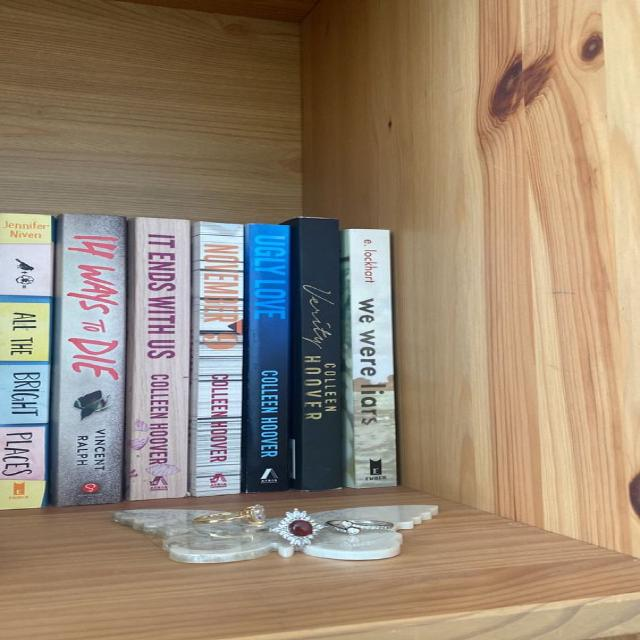book: (51, 214, 126, 506), (126, 217, 190, 500), (283, 218, 343, 491), (0, 214, 52, 510), (190, 222, 243, 496), (343, 229, 397, 488), (241, 224, 290, 492)
